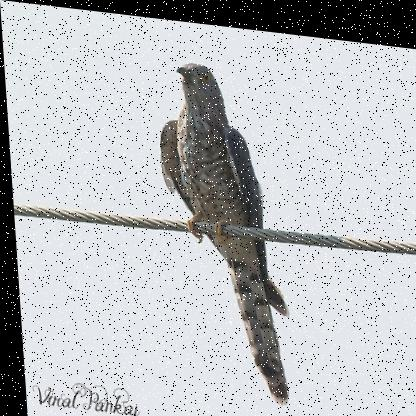Burung: (152, 53, 290, 400)
